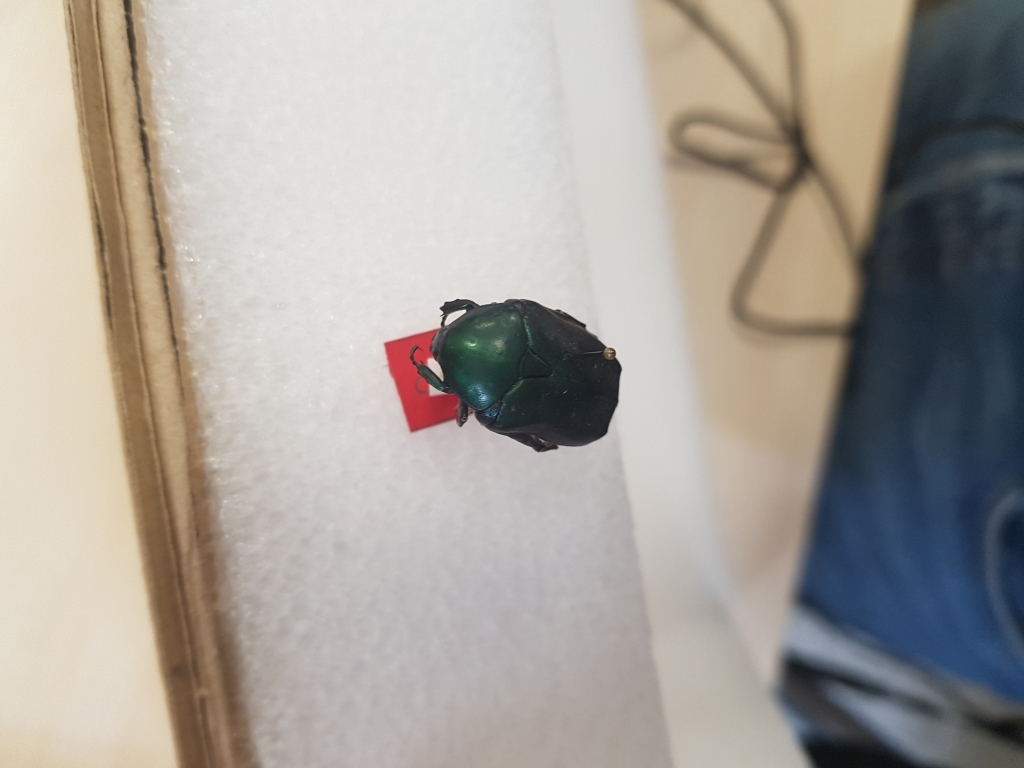Protaetia_afflicta: (399, 287, 634, 460)
